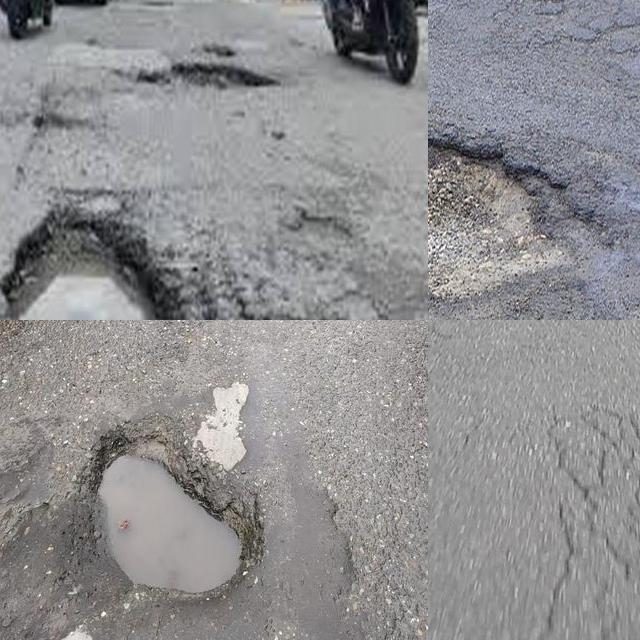Lubang: (81, 421, 269, 597), (428, 151, 617, 319), (0, 216, 179, 320), (165, 61, 278, 90)
Retak Buaya: (542, 418, 640, 640)
